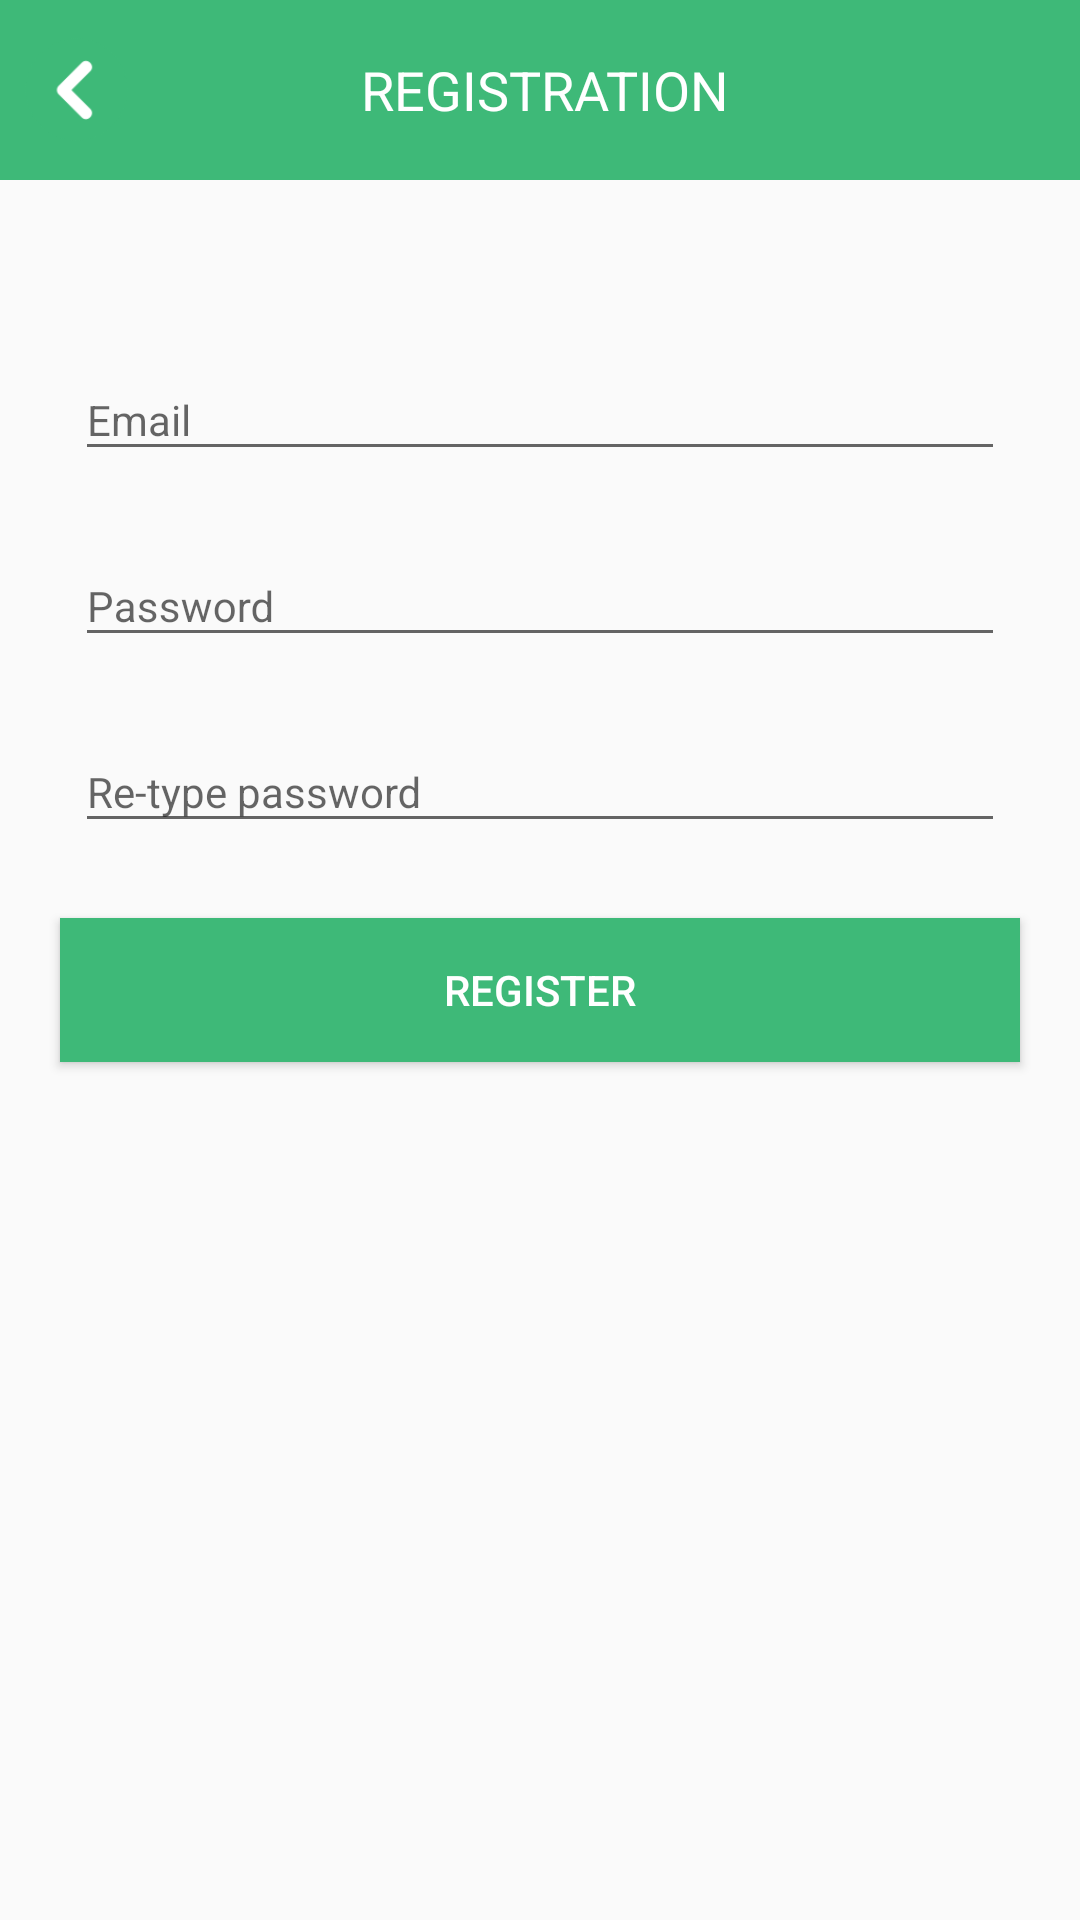

Locate icon controls on the screen. Image size 1080x1920, boxes as rect(x1, y1, x2, y2).
back: rect(56, 60, 93, 120)
